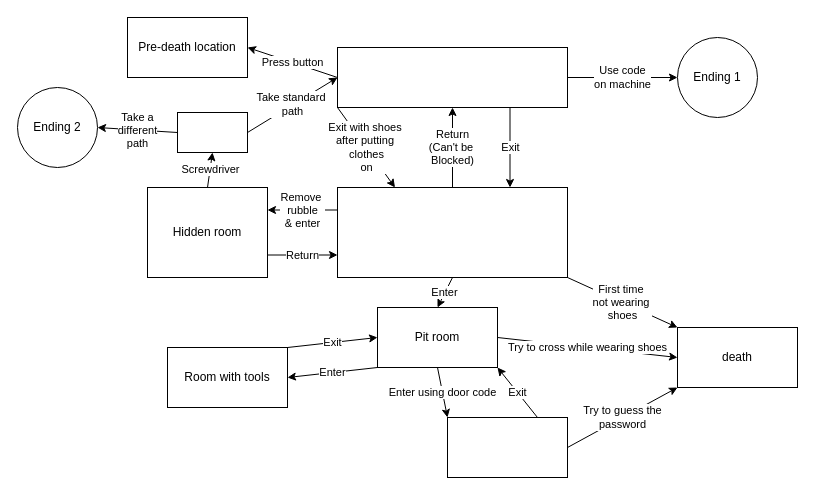
This 815x495 diagram has some shape labels left out. The centre of each missing label's shape, as x and y in pixels:
Collapsed room: the point at 452,232
Computer room W/ code: the point at 507,447
Starting room: the point at 452,77
Vent: the point at 212,132
